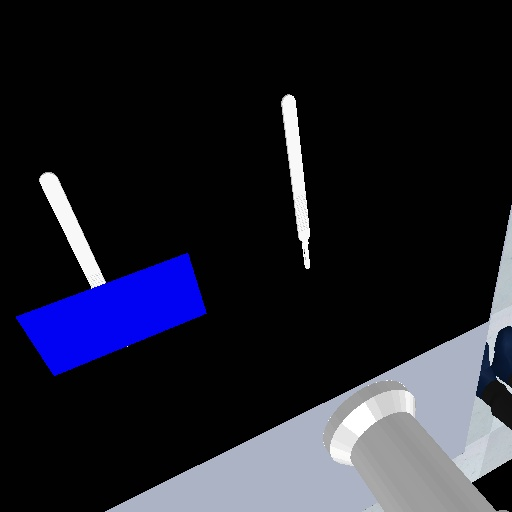bisturi: (36, 170, 108, 292), (279, 89, 314, 273)
